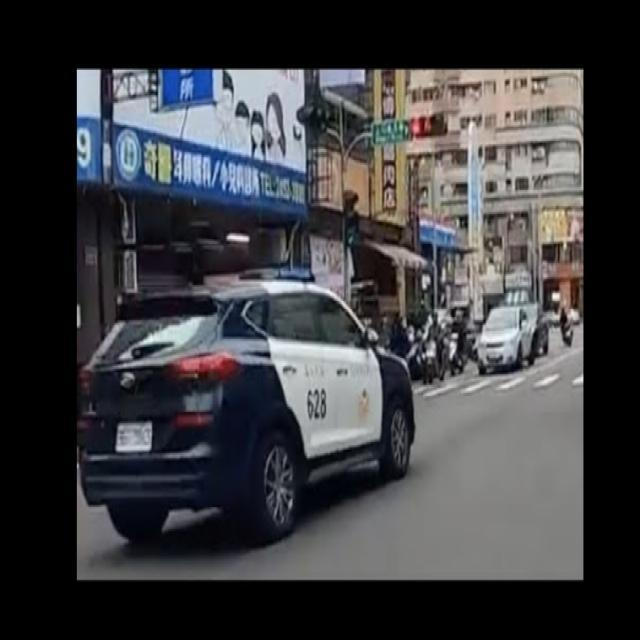police_car: (77, 256, 460, 564)
